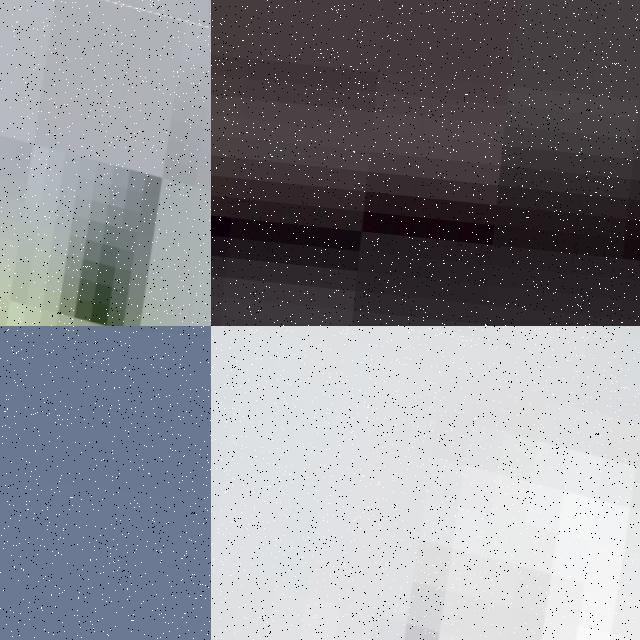0: (0, 0, 211, 326)
drone: (211, 326, 640, 640)
